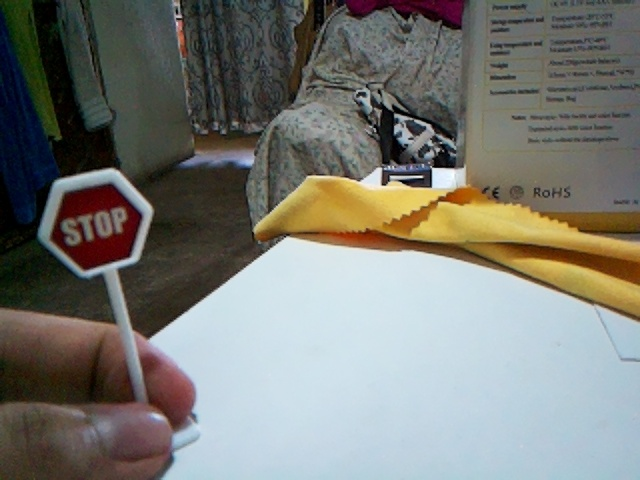stop_sign: (38, 168, 152, 277)
